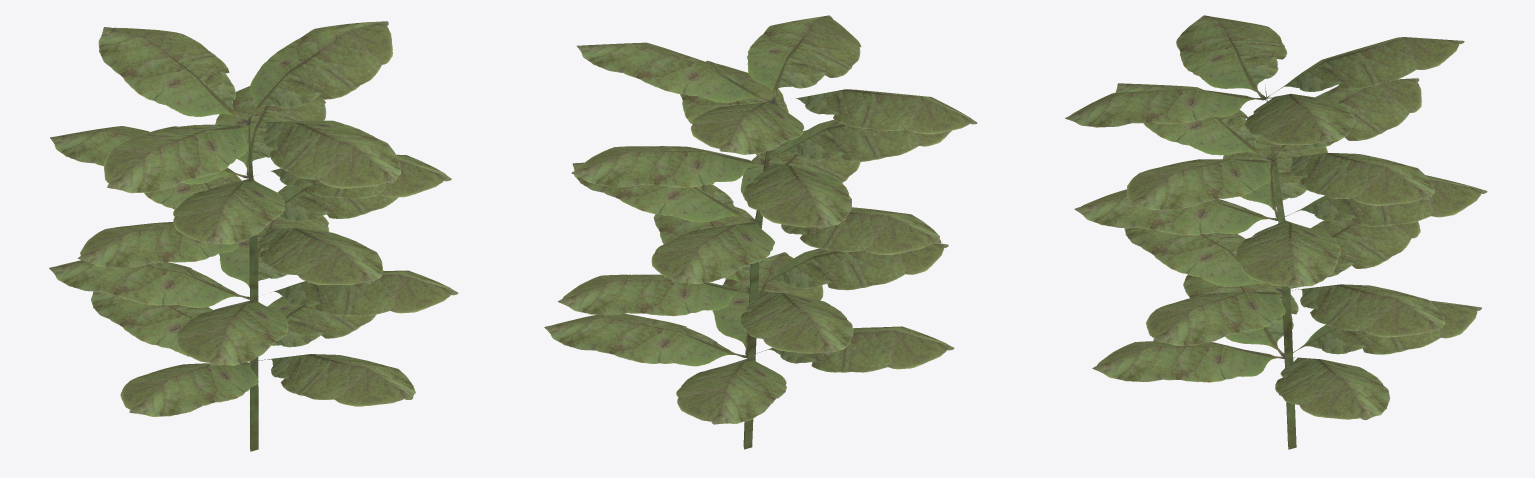
File: plant_016.dae
3 renders of one model, left to right at view 1: azimuth 30°, elevation 25°; view 2: azimuth 150°, elevation 25°; view 3: azimuth 270°, elevation 25°, orthographic.
Visible parts, largest first — view 1: Plant_016; view 2: Plant_016; view 3: Plant_016.
Part boxes in pixels (x1,y1,x2,y2): Plant_016: [49, 21, 458, 451]; Plant_016: [544, 15, 977, 449]; Plant_016: [1065, 15, 1487, 449].
Bounding box in the file's own units: 2.14 × 1.9 × 2.15.
